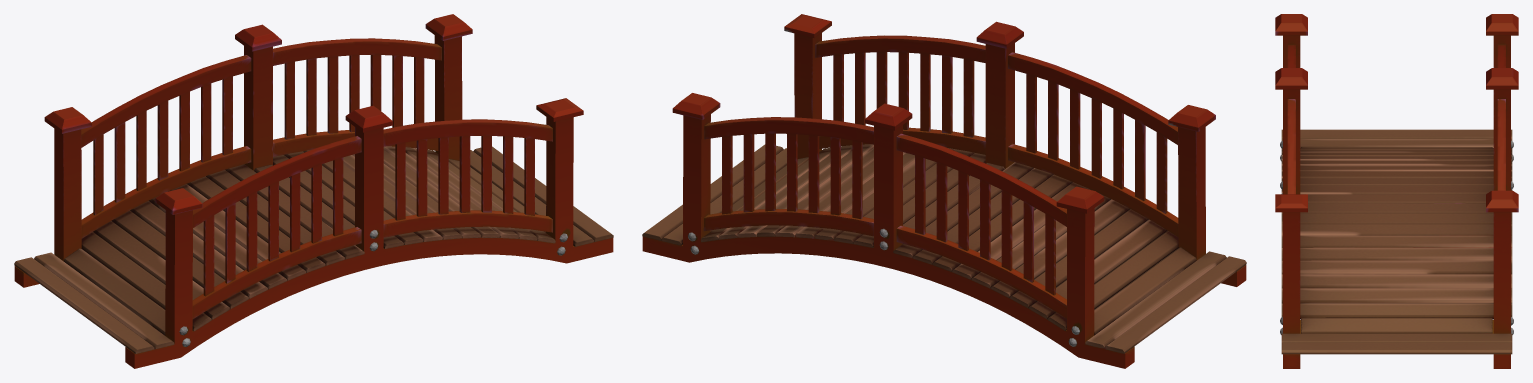
File: bridge.glb
3 views of the same model, side by side, from view 1: azimuth 30°, elevation 25°; view 2: azimuth 150°, elevation 25°; view 3: azimuth 270°, elevation 25° (orthographic). The views are drawn at different scales.
Parts seen in each view (by area): view 1: Bridge; view 2: Bridge; view 3: Bridge.
Part boxes in pixels (x1,y1,x2,y2): Bridge: (14, 14, 613, 368); Bridge: (642, 14, 1246, 368); Bridge: (1275, 14, 1518, 368).
Size of the model in its own units: 4.8 by 1.87 by 2.22.
1 material, 1 textured.
